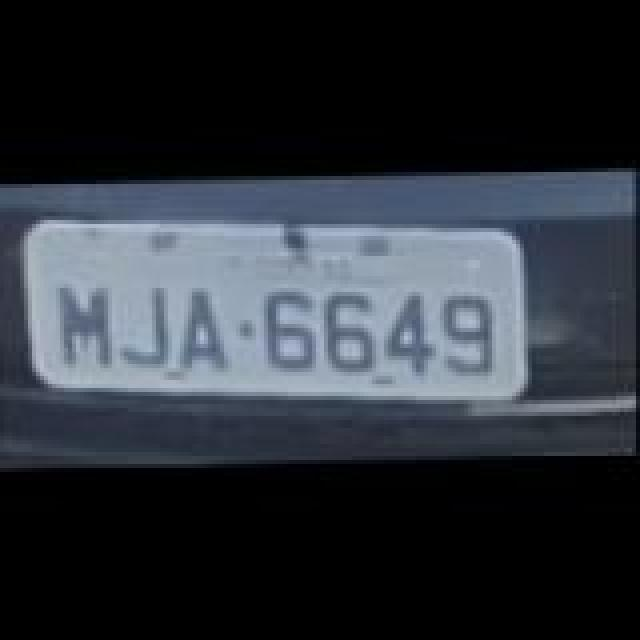4: (380, 290, 440, 374)
6: (322, 288, 386, 372), (258, 286, 322, 366)
9: (442, 294, 506, 378)
A: (178, 282, 234, 366)
J: (118, 282, 174, 366)
M: (56, 282, 116, 366)
